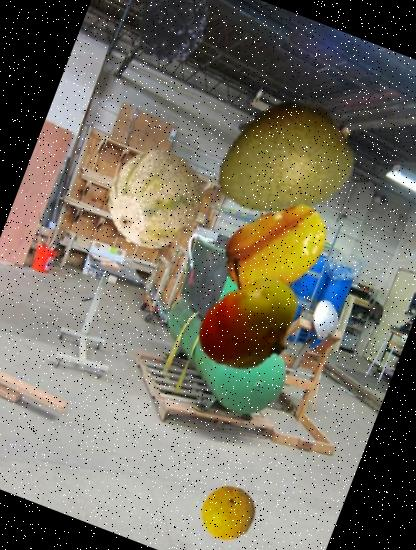Apple: (173, 248, 315, 390)
Cantaloupe: (90, 136, 220, 266), (192, 478, 264, 550)
Carambula: (202, 176, 348, 320)
Mulberry: (114, 0, 243, 89)
Pear: (188, 71, 376, 260)
